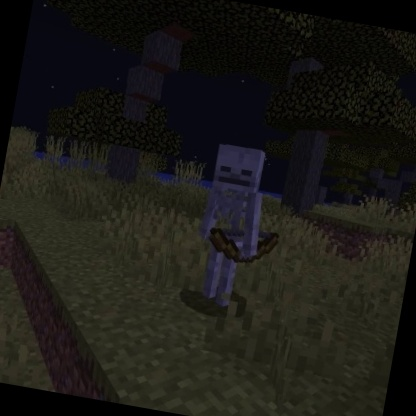skeleton: (182, 137, 296, 318)
